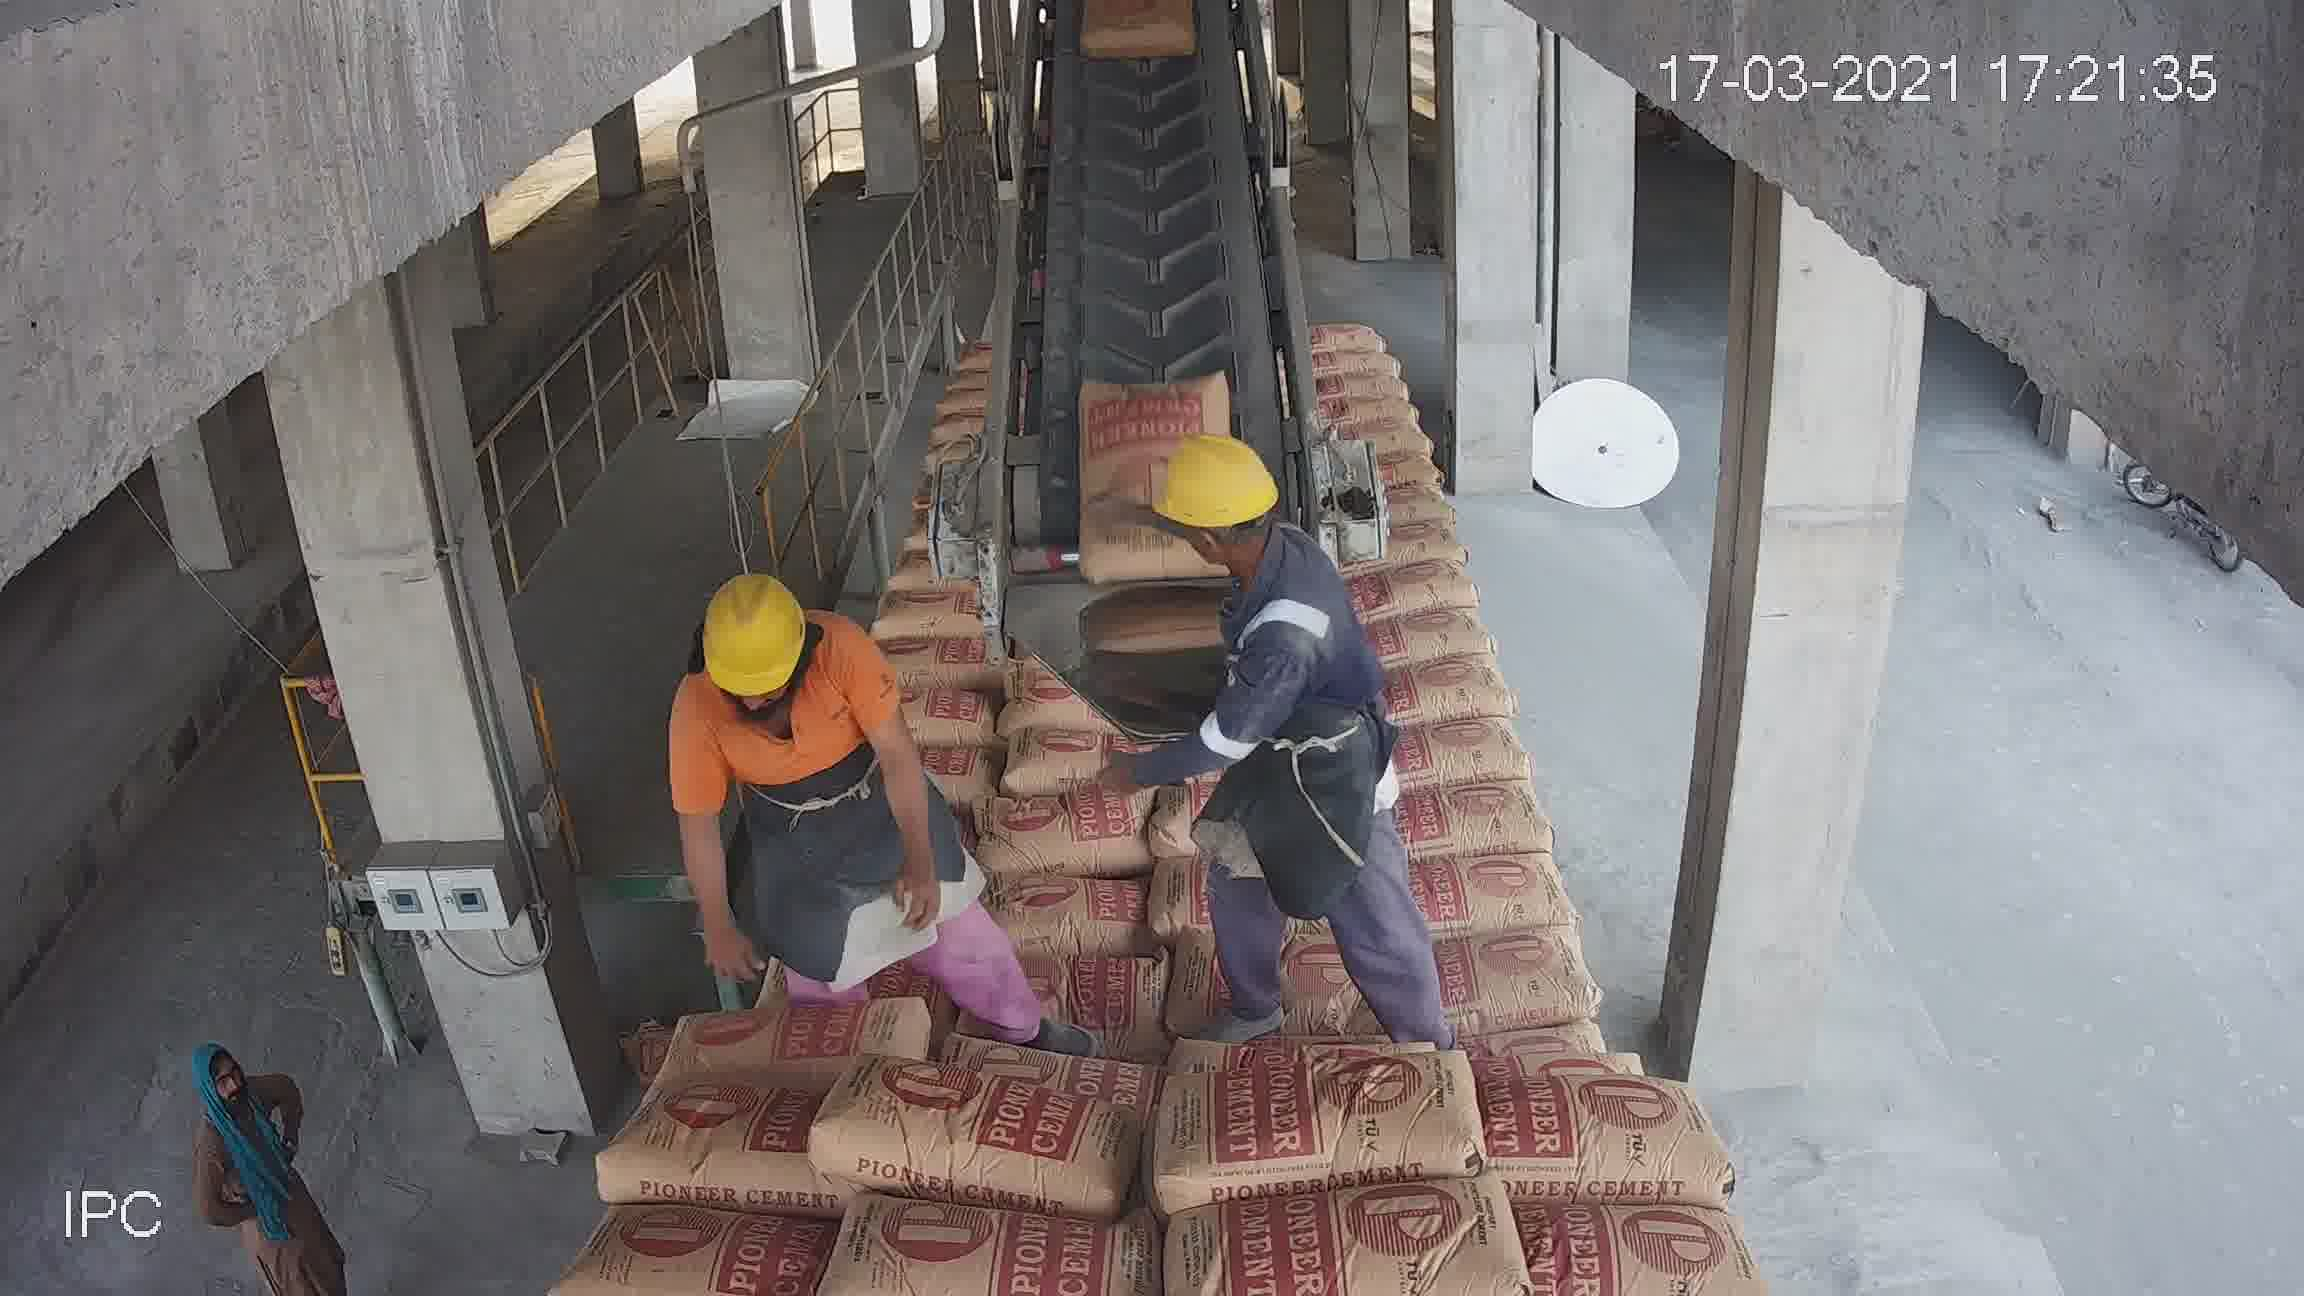bag_h: (1143, 1036, 1518, 1206), (1139, 1163, 1537, 1296), (815, 1067, 1157, 1212), (836, 930, 1180, 1070), (1120, 926, 1448, 1059), (560, 1067, 818, 1222), (1133, 824, 1424, 954), (1438, 953, 1696, 1079), (820, 1199, 1166, 1293), (885, 843, 1161, 956), (1513, 1071, 1756, 1195), (638, 968, 880, 1090), (1160, 720, 1389, 840), (1506, 1190, 1764, 1296), (1416, 858, 1654, 964), (883, 745, 1161, 834), (543, 1209, 824, 1296), (663, 870, 894, 970), (1378, 756, 1586, 850), (695, 783, 899, 872), (987, 706, 1158, 777), (1008, 661, 1173, 725), (978, 578, 1179, 623), (902, 508, 1052, 559), (1008, 623, 1157, 669), (1423, 706, 1527, 763), (1400, 604, 1499, 665), (923, 548, 1036, 590), (907, 468, 1013, 511), (1432, 658, 1510, 715), (915, 437, 1013, 475)
belt: (1021, 0, 1294, 492)
